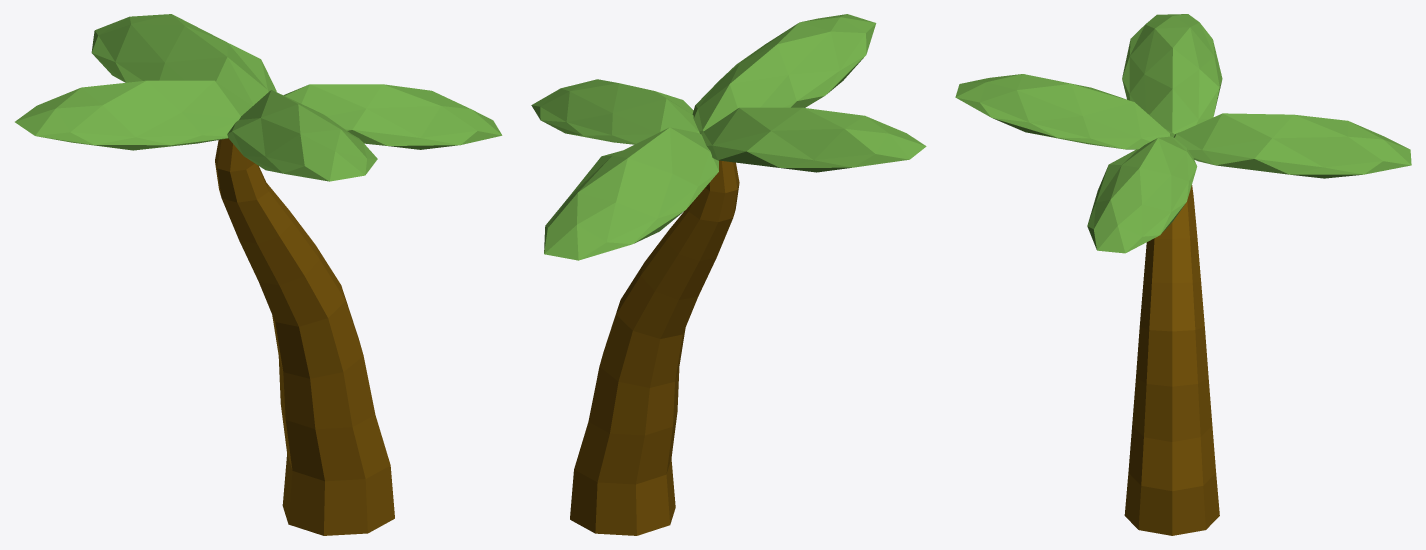
File: tree_01.fbx
3 renders of one model, left to right at view 1: azimuth 30°, elevation 25°; view 2: azimuth 150°, elevation 25°; view 3: azimuth 270°, elevation 25°, orthographic. The views are drawn at different scales.
Parts seen in each view (by area): view 1: Cylinder, Icosphere, Icosphere.001, Icosphere.002, Icosphere.003; view 2: Cylinder, Icosphere.001, Icosphere, Icosphere.003, Icosphere.002; view 3: Cylinder, Icosphere.001, Icosphere.003, Icosphere, Icosphere.002.
Boxes of the visible parts, box(x1,y1,x2,y2) form: Cylinder: box(215, 138, 394, 535); Icosphere: box(15, 80, 252, 150); Icosphere.001: box(91, 14, 276, 105); Icosphere.002: box(283, 84, 502, 149); Icosphere.003: box(227, 90, 377, 181); Cylinder: box(570, 160, 739, 535); Icosphere.001: box(544, 127, 718, 260); Icosphere: box(701, 107, 926, 172); Icosphere.003: box(692, 14, 876, 133); Icosphere.002: box(531, 79, 699, 144); Cylinder: box(1124, 185, 1219, 535); Icosphere.001: box(1173, 113, 1411, 178); Icosphere.003: box(955, 74, 1171, 149); Icosphere: box(1122, 14, 1222, 137); Icosphere.002: box(1087, 136, 1197, 253).
Bounding box in the file's own units: 874 × 906 × 958.
